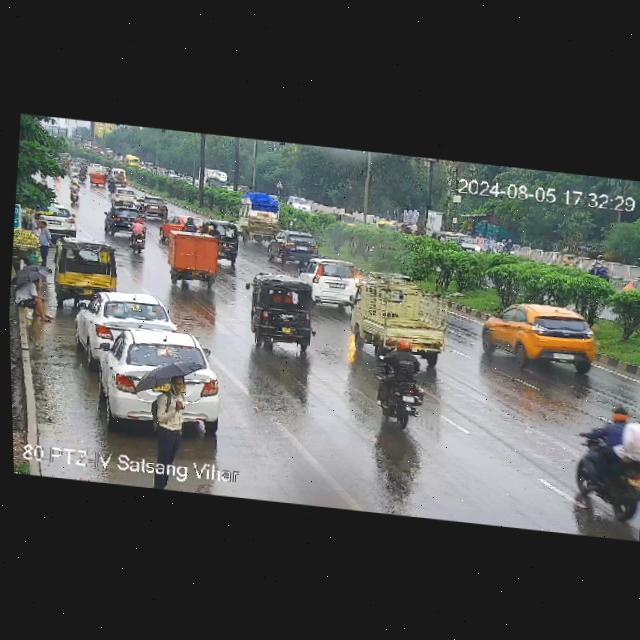car: (82, 323, 222, 425), (477, 296, 605, 375), (77, 291, 176, 361), (245, 271, 321, 353), (49, 237, 122, 304), (163, 228, 222, 288), (303, 255, 361, 309), (267, 225, 315, 268), (44, 202, 80, 237), (437, 228, 484, 252), (202, 219, 243, 245), (103, 203, 131, 237), (157, 211, 184, 240), (137, 192, 166, 217), (110, 185, 138, 208), (287, 193, 310, 212), (633, 253, 640, 295)
motorcycle: (568, 397, 640, 522), (365, 336, 432, 431), (125, 216, 148, 252), (65, 158, 89, 185), (593, 255, 614, 277), (499, 237, 515, 252), (183, 216, 196, 231)
person: (157, 371, 194, 457), (12, 273, 60, 325), (35, 218, 53, 262), (30, 211, 42, 231)
truck: (346, 269, 469, 371), (237, 199, 280, 240)
